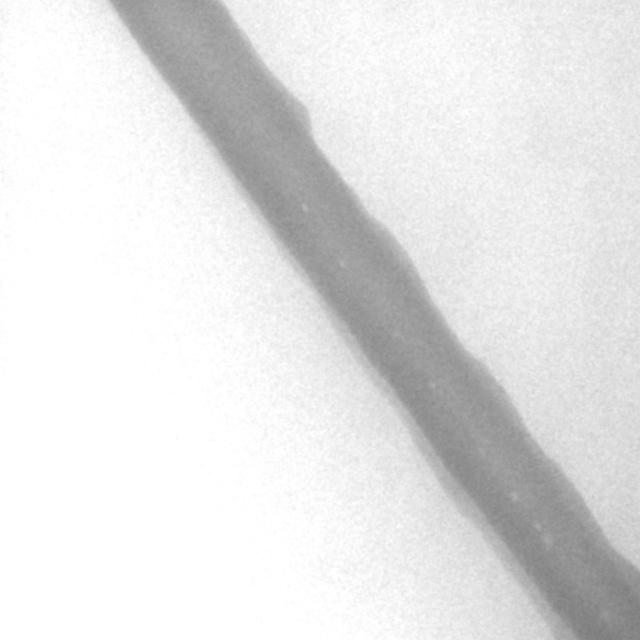air-hole: (542, 538, 552, 550), (302, 202, 310, 216), (534, 524, 542, 534), (602, 609, 609, 618), (510, 492, 518, 499), (479, 445, 484, 454), (431, 382, 435, 388), (342, 262, 344, 268)
